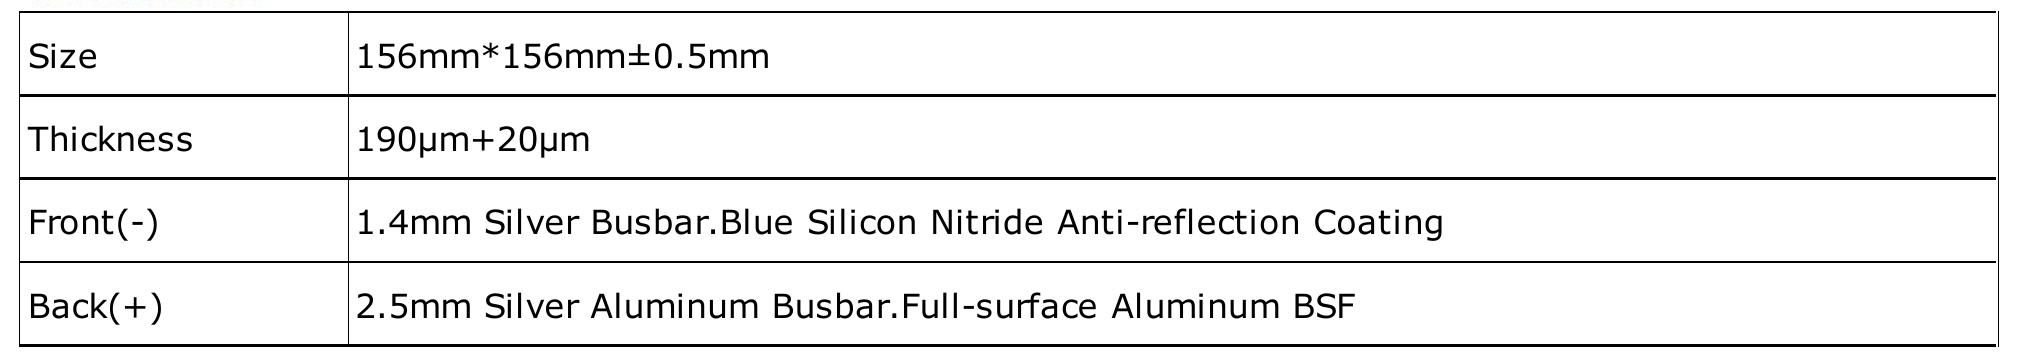table: (4, 3, 2018, 361)
table column: (354, 8, 1984, 350), (24, 12, 336, 354)
table row: (14, 271, 2000, 345), (14, 183, 2000, 256), (9, 18, 1997, 90), (9, 102, 2000, 167)
